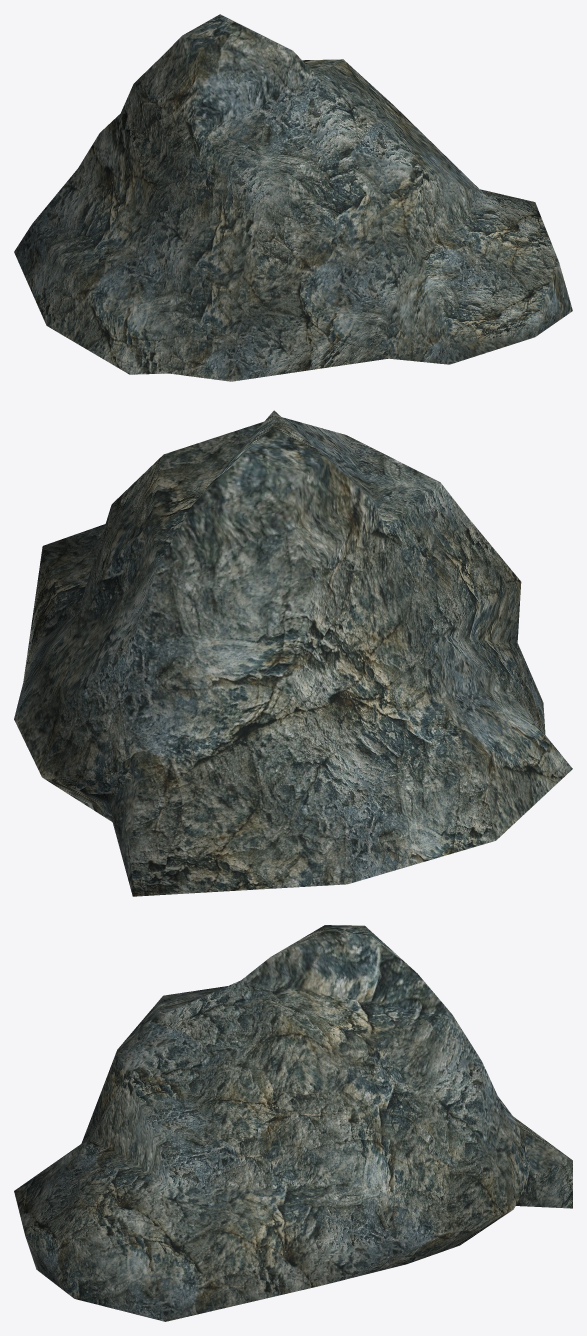
File: rockBlobOne.fbx
3 views of the same model, one above another, from view 1: azimuth 30°, elevation 25°; view 2: azimuth 150°, elevation 25°; view 3: azimuth 270°, elevation 25° (orthographic). The views are drawn at different scales.
Parts seen in each view (by area): view 1: pCube1; view 2: pCube1; view 3: pCube1.
Part boxes in pixels (x1,y1,x2,y2): pCube1: (14, 14, 572, 381); pCube1: (14, 410, 572, 896); pCube1: (14, 925, 572, 1321).
Size of the model in its own units: 15.38 by 17.05 by 9.51.
